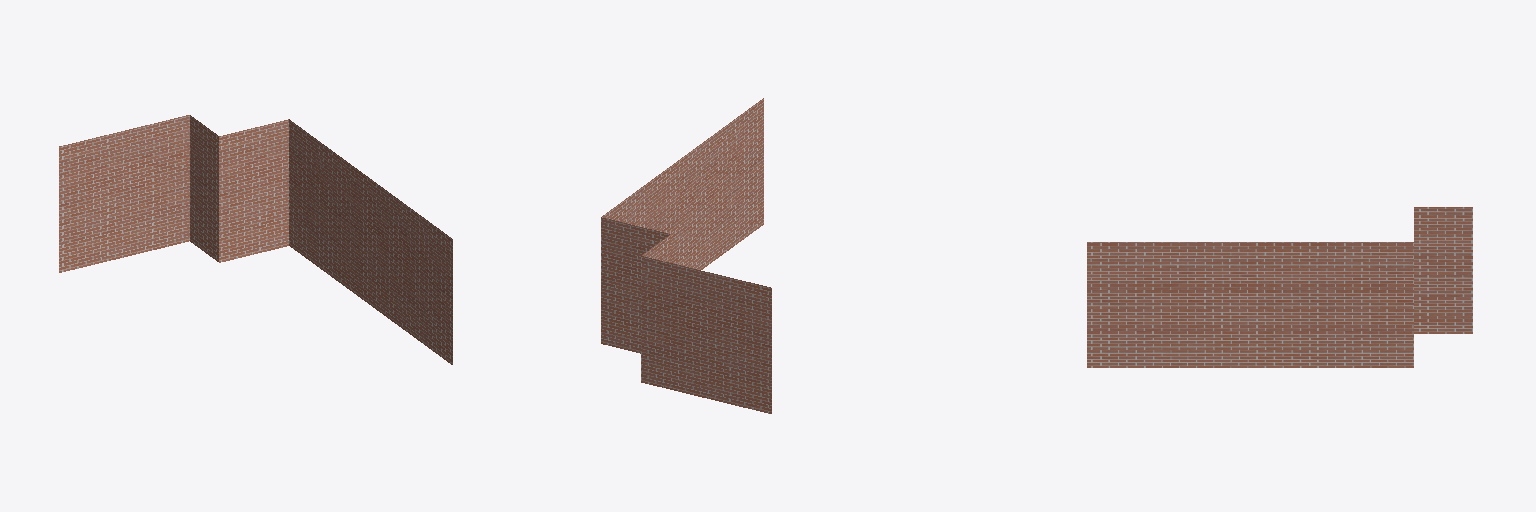
The picture shows the model from 3 angles: view 1: azimuth 30°, elevation 25°; view 2: azimuth 150°, elevation 25°; view 3: azimuth 270°, elevation 25°; orthographic projection.
Parts seen in each view (by area): view 1: wall; view 2: wall; view 3: wall.
Boxes of the visible parts, box(x1,y1,x2,y2) form: wall: box(59, 115, 452, 364); wall: box(601, 98, 771, 413); wall: box(1087, 207, 1472, 367).
Size of the model in its own units: 18.2 by 11 by 30.35.
1 materials, 1 textured.